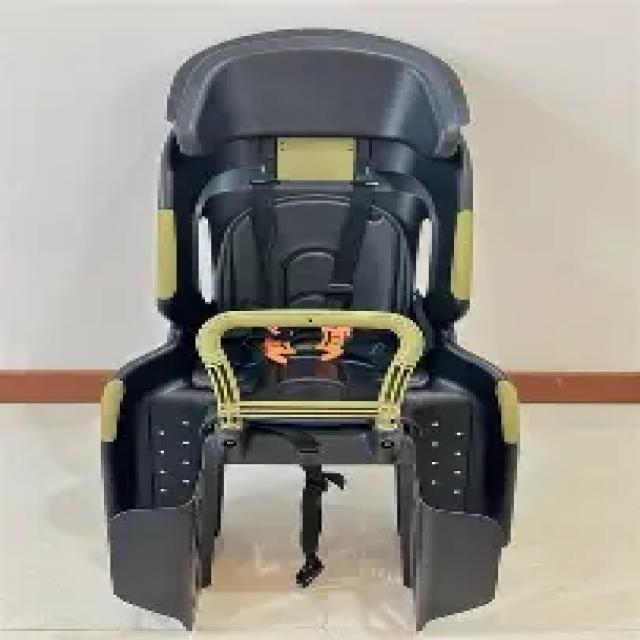childseat: (93, 22, 528, 633)
